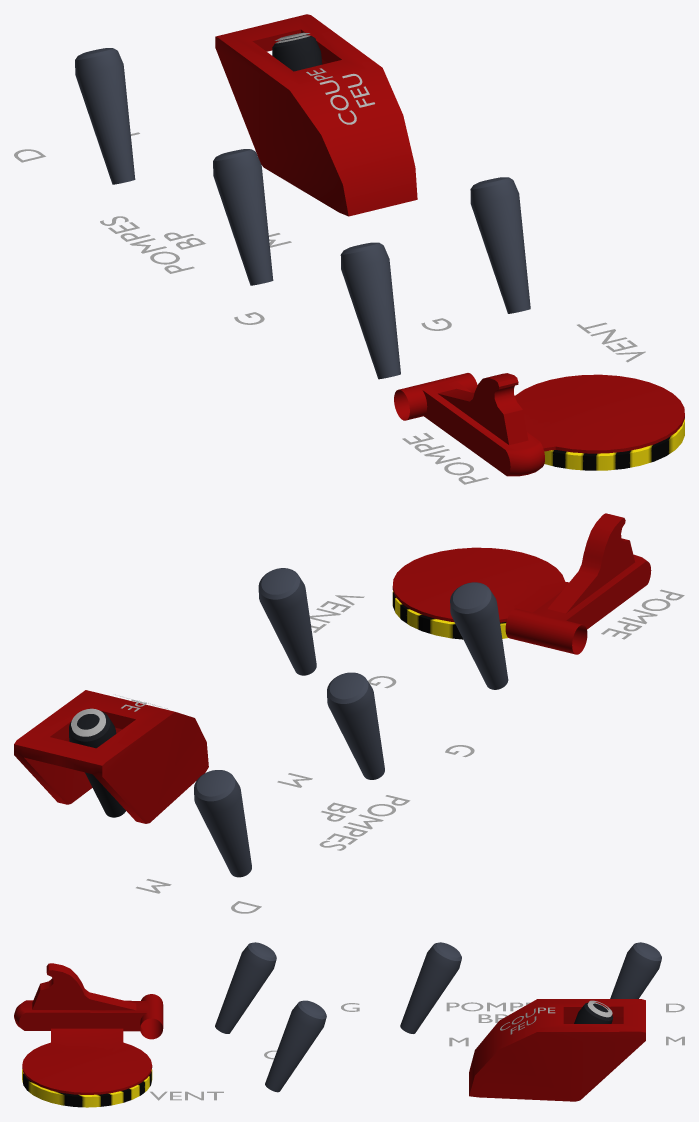
File: starter.fbx
The picture shows the model from 3 angles, top to bottom: view 1: azimuth 30°, elevation 25°; view 2: azimuth 150°, elevation 25°; view 3: azimuth 270°, elevation 25°; orthographic projection. The views are drawn at different scales.
Visible parts, largest first — view 1: starter.cachecoupefeu, starter.cachestart, starter.vent, starter.pompe, starter.pompes, starter.dm, starter.texte, starter.starter, starter.coupefeu, starter.textecoupefeu; view 2: starter.cachestart, starter.cachecoupefeu, starter.pompe, starter.vent, starter.pompes, starter.dm, starter.texte, starter.coupefeu, starter.starter; view 3: starter.cachecoupefeu, starter.cachestart, starter.vent, starter.pompes, starter.pompe, starter.dm, starter.starter, starter.texte, starter.coupefeu, starter.textecoupefeu.
Part boxes in pixels (x1,y1,x2,y2): starter.cachecoupefeu: (215,14,417,216); starter.cachestart: (394,373,684,476); starter.vent: (470,177,530,313); starter.pompe: (340,242,400,379); starter.pompes: (213,149,273,285); starter.dm: (75,48,135,184); starter.texte: (14,132,645,484); starter.starter: (544,419,684,470); starter.coupefeu: (272,35,322,71); starter.textecoupefeu: (306,68,374,124); starter.cachestart: (392,513,651,654); starter.cachecoupefeu: (14,690,208,823); starter.pompe: (450,582,508,689); starter.vent: (258,568,316,675); starter.pompes: (327,672,384,779); starter.dm: (194,770,251,877); starter.texte: (136,589,684,913); starter.coupefeu: (69,711,125,817); starter.starter: (392,591,507,639); starter.cachecoupefeu: (469,999,645,1101); starter.cachestart: (14,963,163,1094); starter.vent: (265,1000,326,1092); starter.pompes: (400,942,461,1033); starter.pompe: (215,942,276,1033); starter.dm: (610,942,661,998); starter.starter: (22,1069,152,1107); starter.texte: (150,1002,684,1100); starter.coupefeu: (574,1002,612,1023); starter.textecoupefeu: (500,1007,555,1034).
Size of the model in its own units: 2.31 by 6.68 by 1.05.
